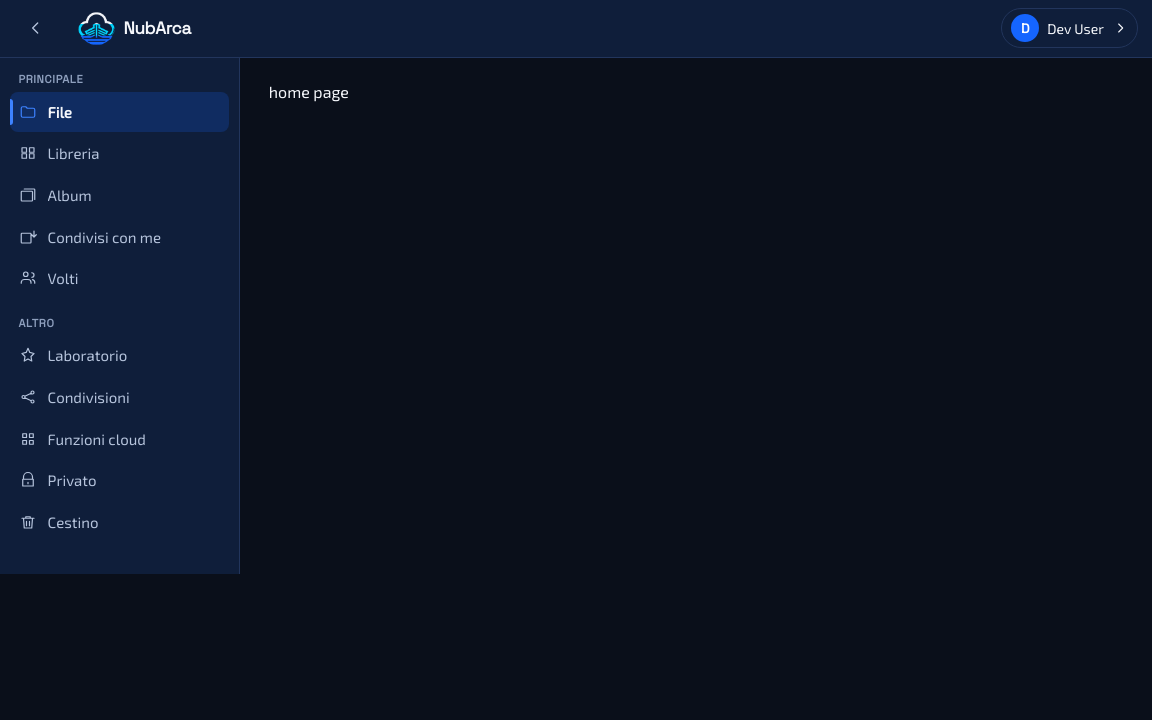
Test case: Layout user menu › closes the popover on Escape
The image size is (1152, 720).
Click the button with test id "user-menu-trigger" at x=1070, y=28, box [1001,8,1138,48]
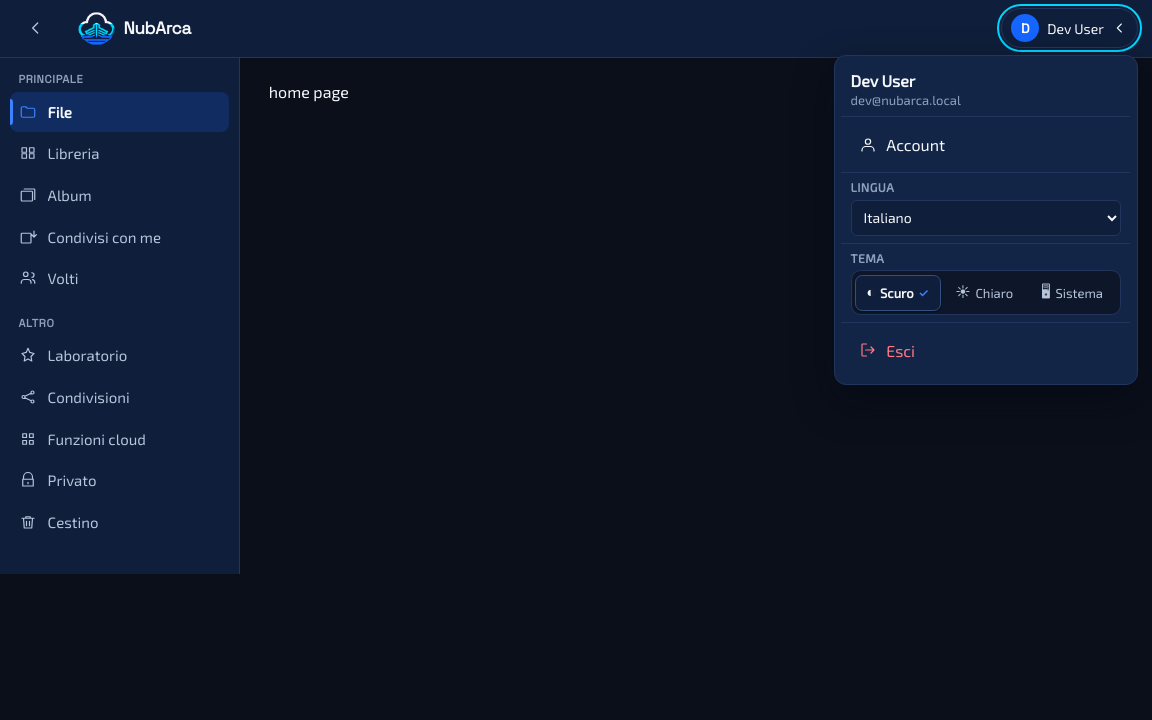
Now the dialog with test id "user-menu-popover" is shown, box [834,55,1138,385]
Press Escape
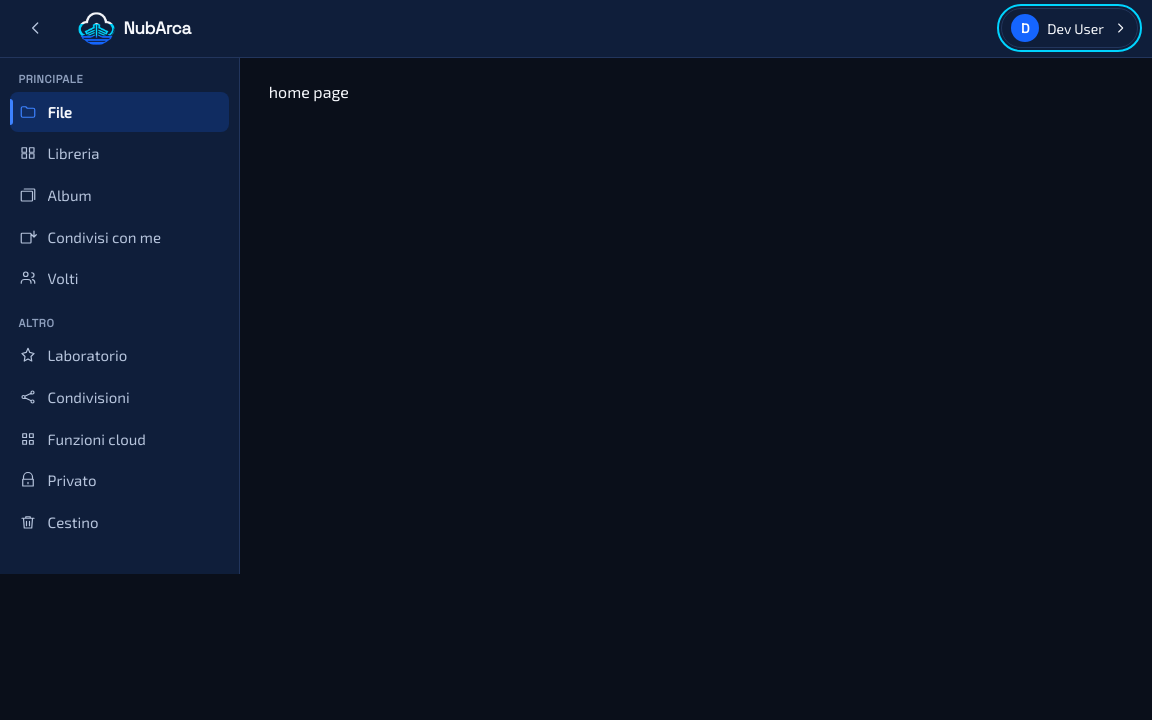
Now the dialog with test id "user-menu-popover" is gone
